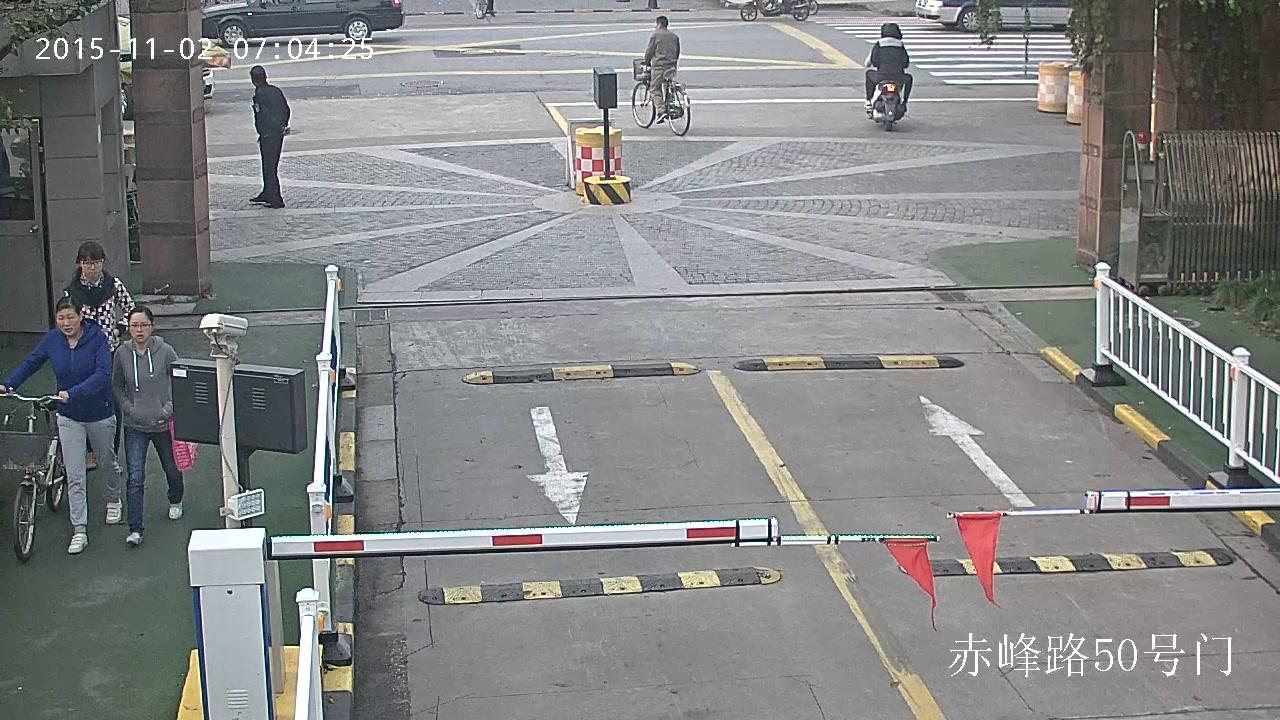face: (56, 308, 80, 336), (129, 312, 152, 341), (81, 256, 103, 277), (654, 18, 657, 27)
